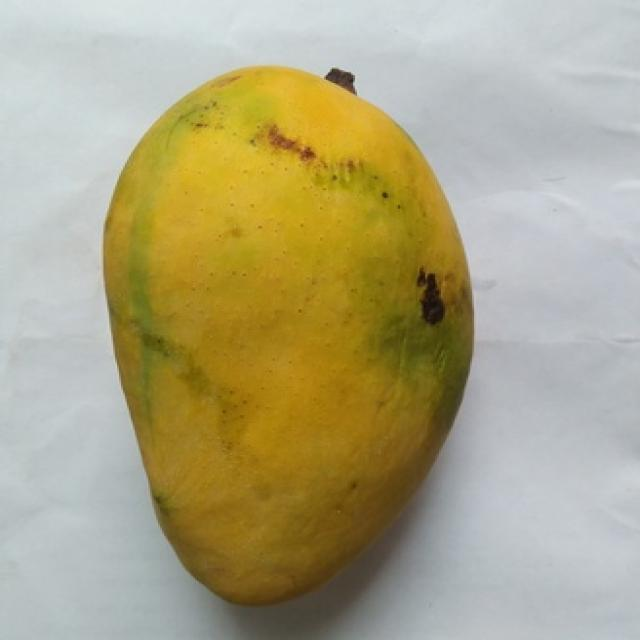Mango: (103, 67, 472, 603)
